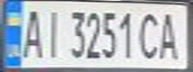1: (115, 7, 136, 60)
2: (81, 7, 103, 58)
3: (63, 6, 87, 60)
5: (100, 7, 121, 60)
A: (154, 8, 184, 61), (18, 4, 45, 60)
C: (136, 8, 163, 61)
I: (39, 4, 66, 60)
